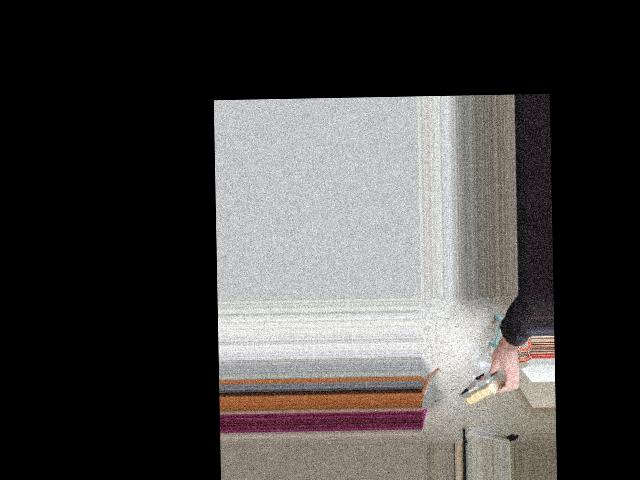cheese: (456, 357, 528, 415)
